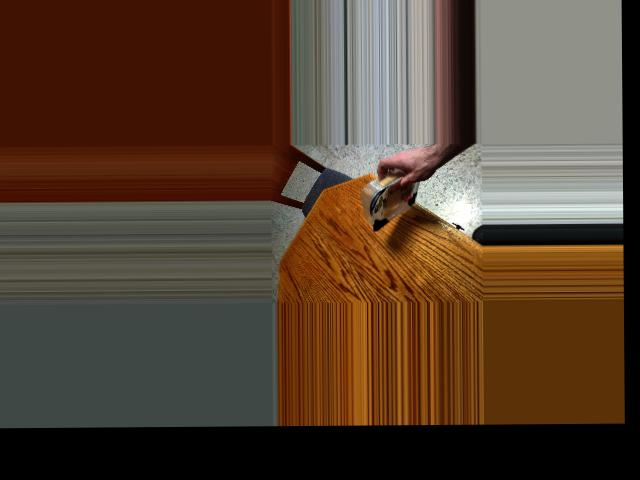cheese: (354, 172, 437, 228)
